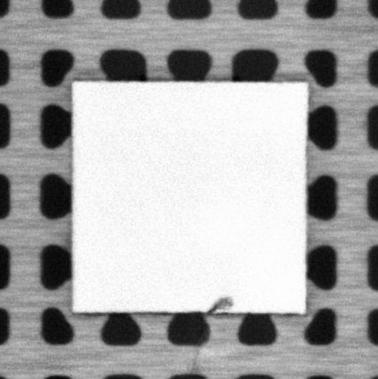DIE_INK: (207, 293, 234, 314)
